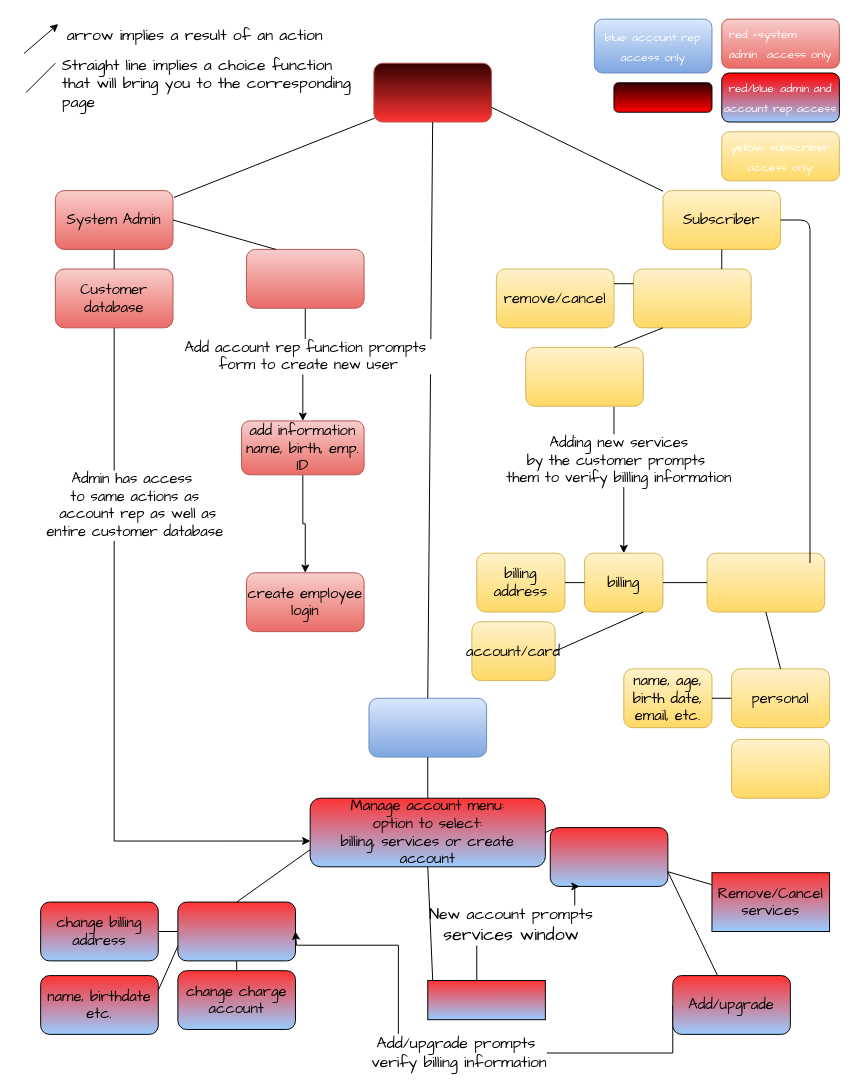
Image size: 857x1089. Some labels were removed from this diagram. Here are the shapes that lost their labels. From the top down, the centre of each, then its label:
point 432,92: Login(home screen)
point 662,97: universal access
point 304,278: Add Account Rep
point 692,298: my services
point 584,376: add/start new
point 765,582: My info
point 427,727: Account Representative
point 780,768: mailing address
point 608,856: Services
point 236,931: Billing/account information
point 486,1000: New account
